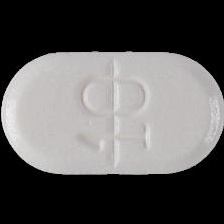53808-0989: (0, 0, 224, 224)
